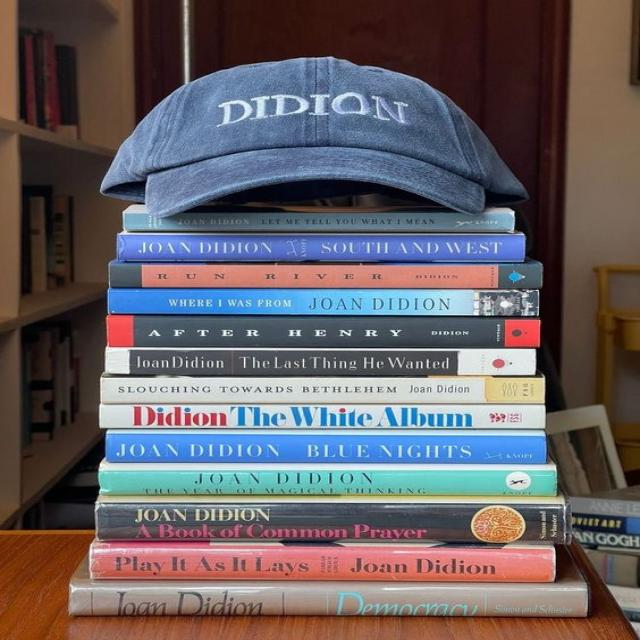book: (68, 551, 591, 617), (95, 496, 570, 545), (90, 537, 555, 582), (100, 460, 557, 496), (106, 431, 546, 463), (108, 316, 540, 348), (104, 346, 530, 375), (109, 261, 541, 289), (101, 376, 545, 403), (117, 234, 524, 263), (101, 403, 545, 429), (109, 290, 538, 315), (123, 205, 514, 232)
